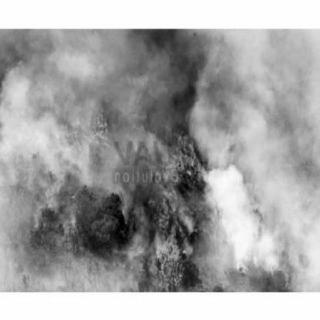Fire: (56, 70, 152, 146)
